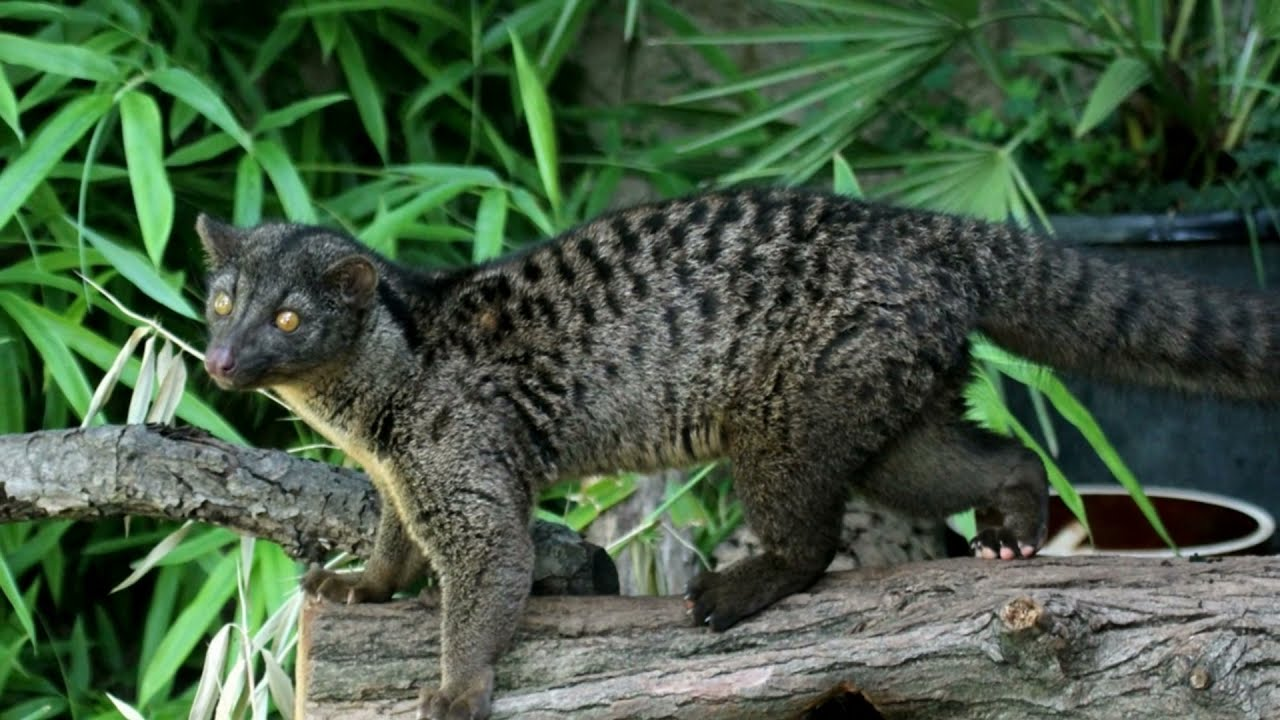Civet: (172, 175, 1266, 697)
